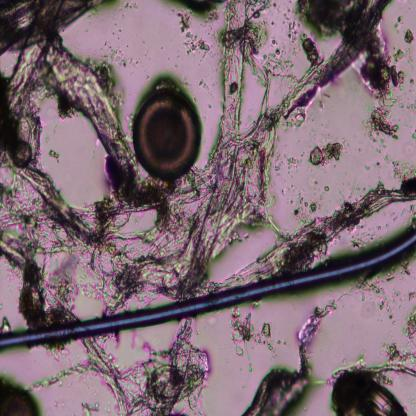Background material: (0, 173, 211, 226), (245, 302, 332, 414), (334, 354, 416, 414), (18, 255, 70, 326), (365, 35, 407, 94), (230, 305, 276, 355), (296, 1, 354, 35), (360, 277, 402, 323), (238, 0, 272, 56), (364, 94, 399, 144), (266, 148, 309, 184), (255, 43, 294, 78), (101, 29, 134, 66), (178, 12, 206, 54), (171, 0, 225, 19), (290, 194, 320, 225), (309, 139, 344, 164), (392, 158, 416, 183), (303, 33, 320, 66), (282, 17, 300, 47), (399, 90, 416, 116), (405, 307, 416, 345), (364, 154, 389, 168), (196, 76, 212, 92), (402, 25, 414, 46), (404, 134, 415, 155), (48, 148, 62, 164)
Cellulose filter fibre: (244, 0, 386, 156), (180, 1, 252, 295), (235, 182, 416, 280), (45, 43, 140, 191), (117, 318, 205, 414), (31, 338, 131, 412), (0, 0, 97, 54)
Diatom: (132, 90, 202, 181), (0, 378, 40, 415)
Microfibre: (0, 232, 416, 352)
